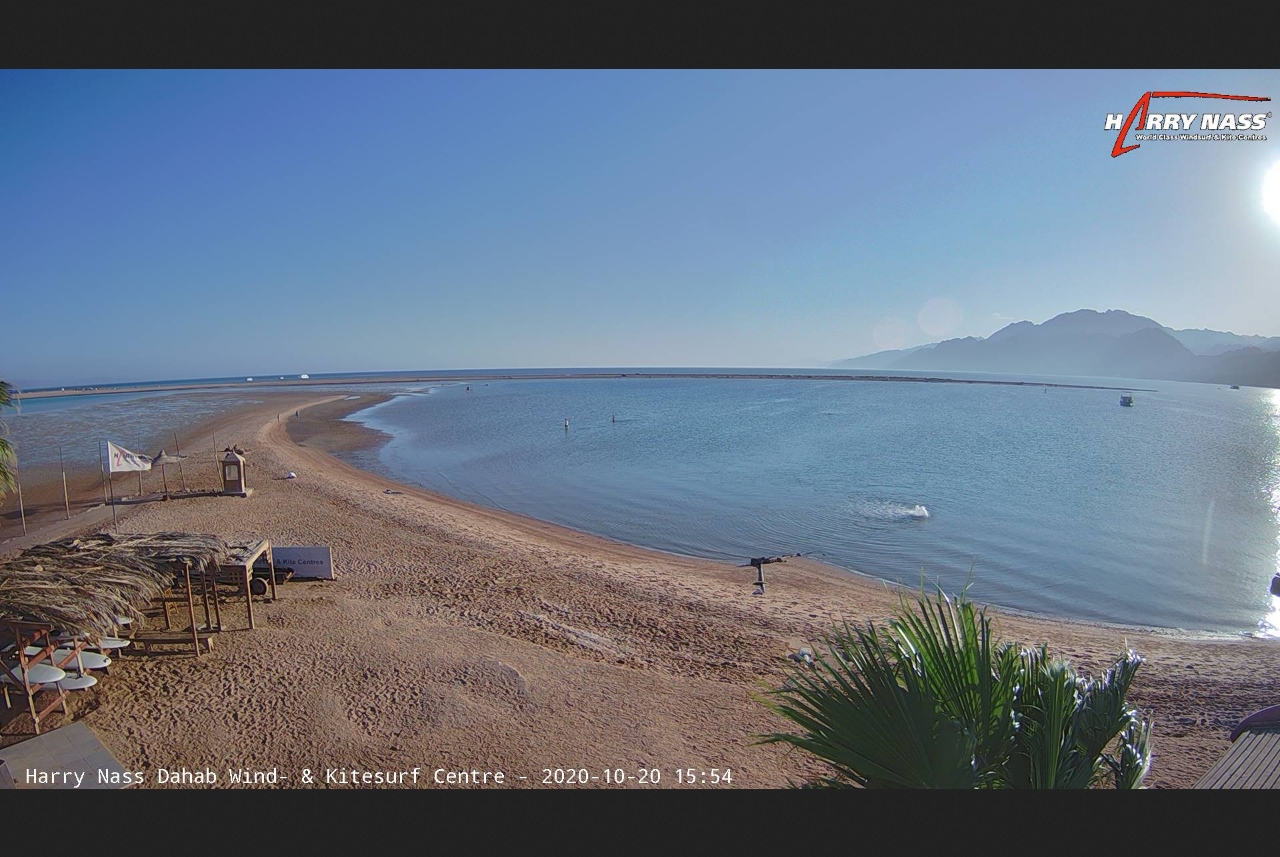yes: (105, 434, 158, 476)
